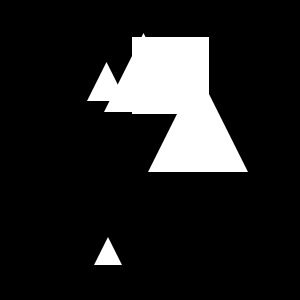circle: (132, 37, 209, 114)
triangle: (148, 72, 248, 172), (104, 33, 183, 112), (87, 62, 126, 101), (94, 237, 122, 265)
